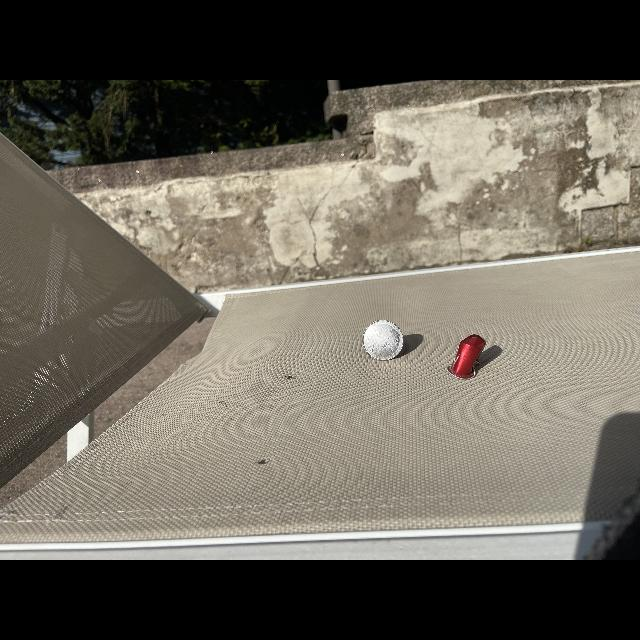damaged_capsule: (443, 331, 489, 384)
intact_capsule: (361, 320, 407, 362)
